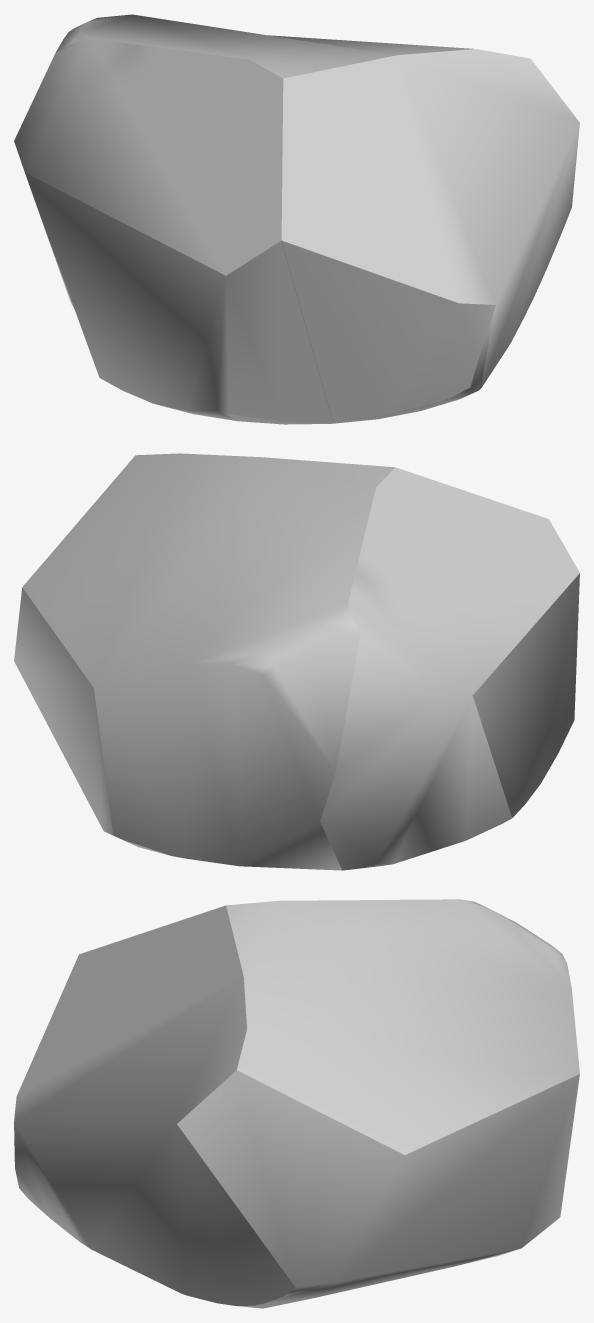
Rendered from RockBig_2.fbx.
3 views of the same model, one above another, from view 1: azimuth 30°, elevation 25°; view 2: azimuth 150°, elevation 25°; view 3: azimuth 270°, elevation 25° (orthographic). The views are drawn at different scales.
Visible parts, largest first — view 1: Sphere; view 2: Sphere; view 3: Sphere.
Part boxes in pixels (x1,y1,x2,y2): Sphere: (14, 14, 579, 424); Sphere: (14, 453, 579, 870); Sphere: (14, 899, 579, 1308).
Size of the model in its own units: 1387 by 843 by 1418.
